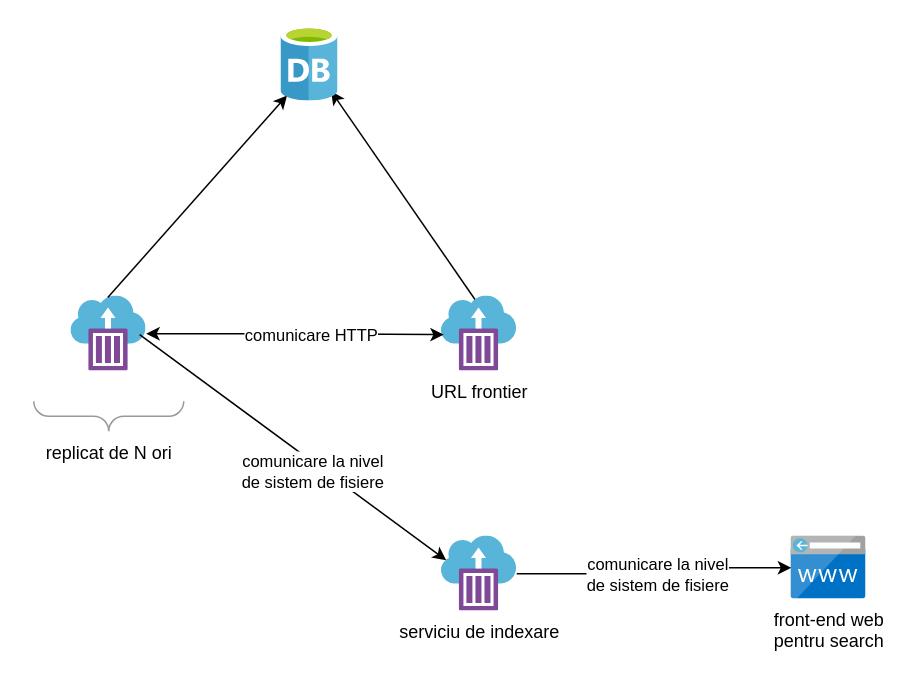
Image size: 909x678. Some labels were removed from this diagram. The centre of each missing label's shape, as x and y in pixels:
Bază de date Mongo pentru robots.txt parsat: pixel 309 63
crawler: pixel 108 333
